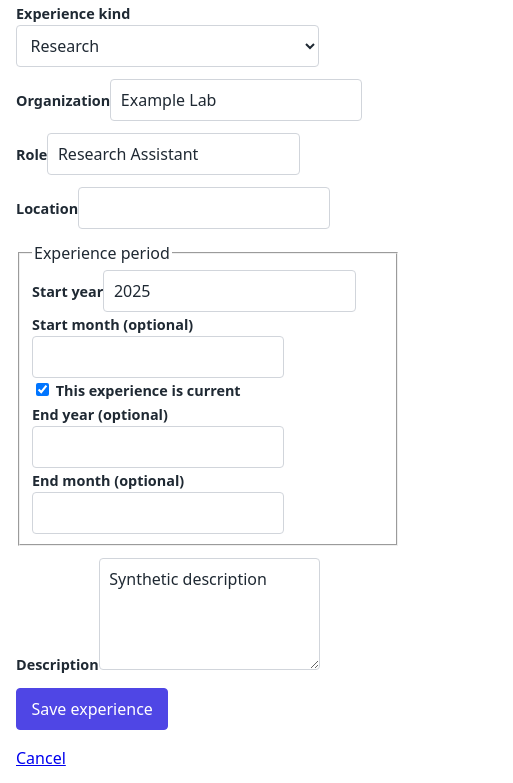
ExperienceEditorPage › treats a zero-row update as a missing entry
(page scrolled)
expect the field showing "Example Lab" is shown: met, box 110,79 -> 362,121
Click the button "Save experience" at x=92, y=709, box 16,688 -> 168,730
(page scrolled)
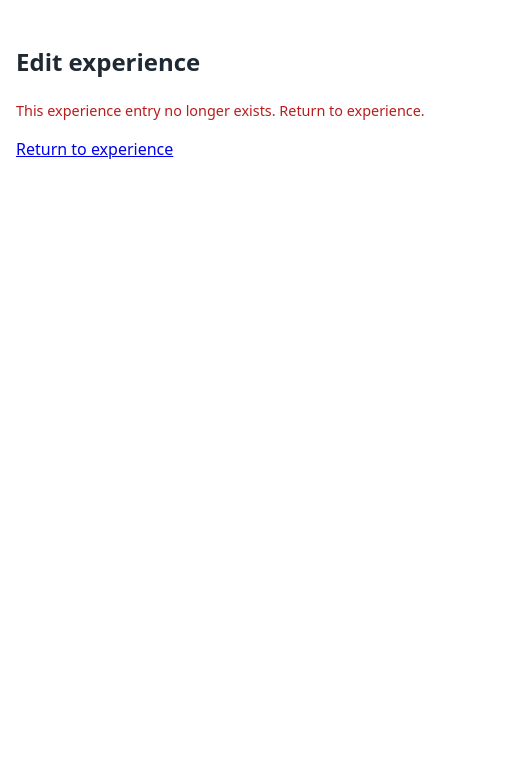
expect the text "This experience entry no longer exists. Return to experience." is shown: met, box 16,100 -> 496,121
